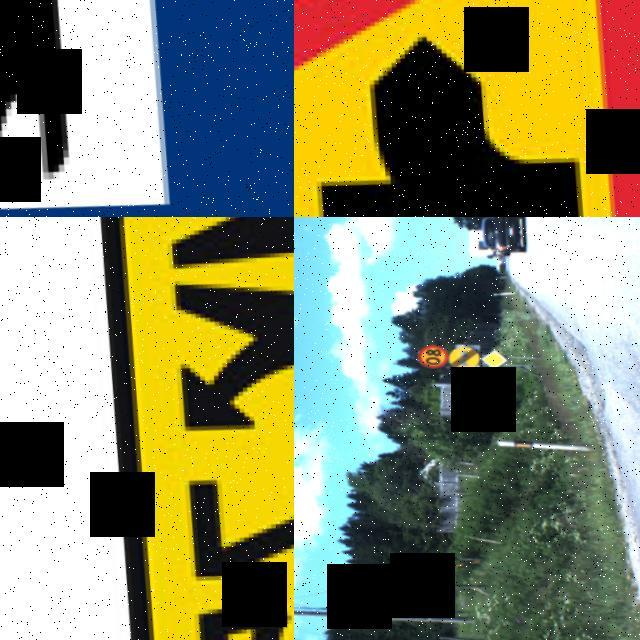108: (444, 337, 482, 366)
125: (80, 217, 294, 640)
166: (294, 0, 640, 217)
55: (414, 336, 450, 366)
57: (482, 340, 510, 363)
Refreshments: (0, 0, 294, 217)
